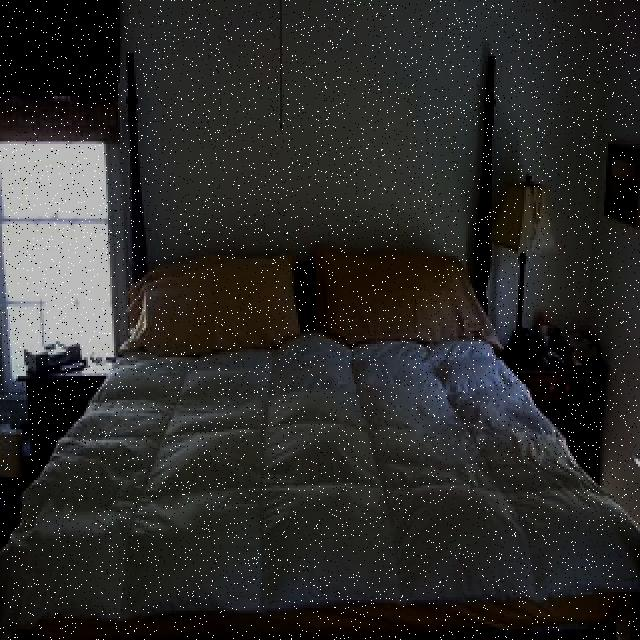bed: (0, 236, 639, 640)
